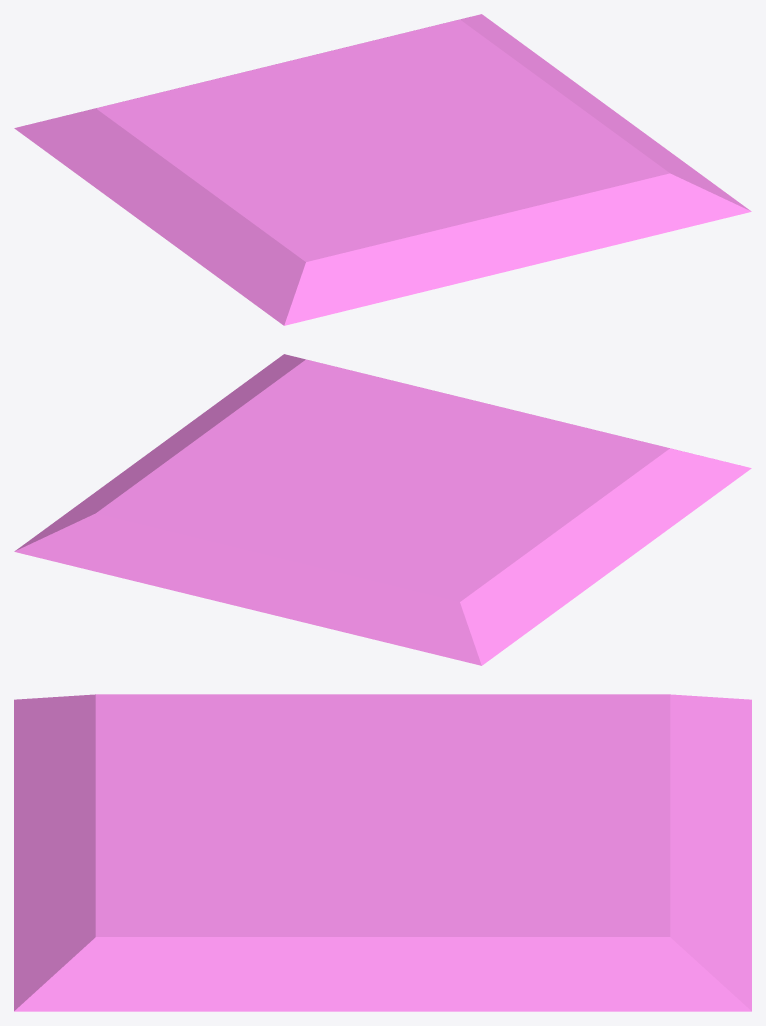
Rendered from slav_deco_05.gltf.
3 renders of one model, top to bottom at view 1: azimuth 30°, elevation 25°; view 2: azimuth 150°, elevation 25°; view 3: azimuth 270°, elevation 25°, orthographic. The views are drawn at different scales.
Visible parts, largest first — view 1: slav_deco_05; view 2: slav_deco_05; view 3: slav_deco_05.
Boxes of the visible parts, left/top/right/bottom form: slav_deco_05: left=14, top=14, right=751, bottom=325; slav_deco_05: left=14, top=354, right=751, bottom=665; slav_deco_05: left=14, top=694, right=751, bottom=1011.
Bounding box in the file's own units: 0.672 × 0.04 × 0.672.
